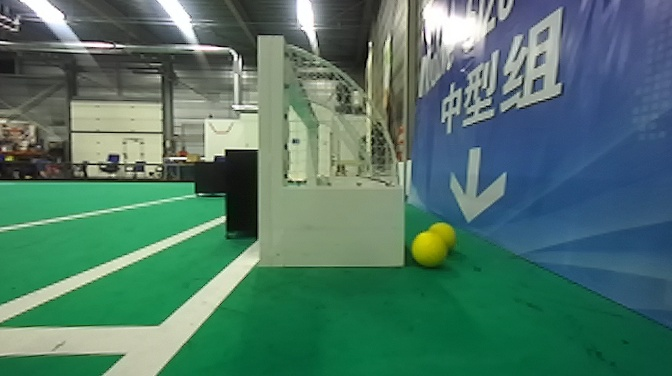ball: (406, 232, 447, 266), (426, 223, 459, 253)
goalpost: (256, 34, 290, 265)
